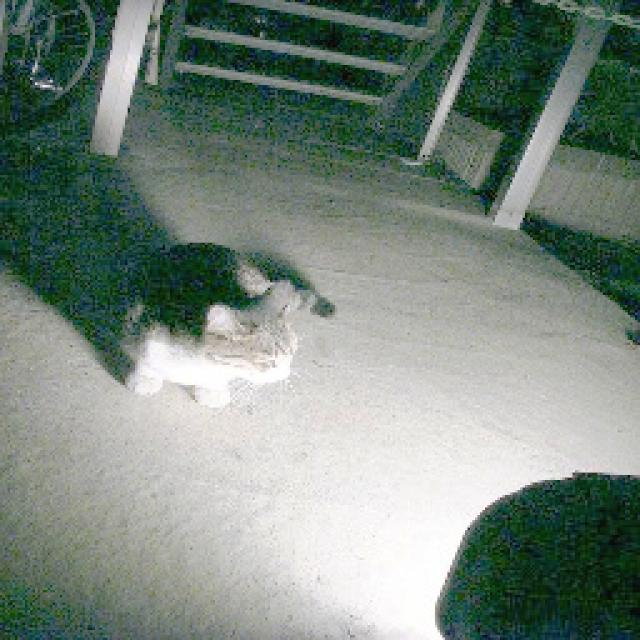cat: (100, 228, 342, 416)
